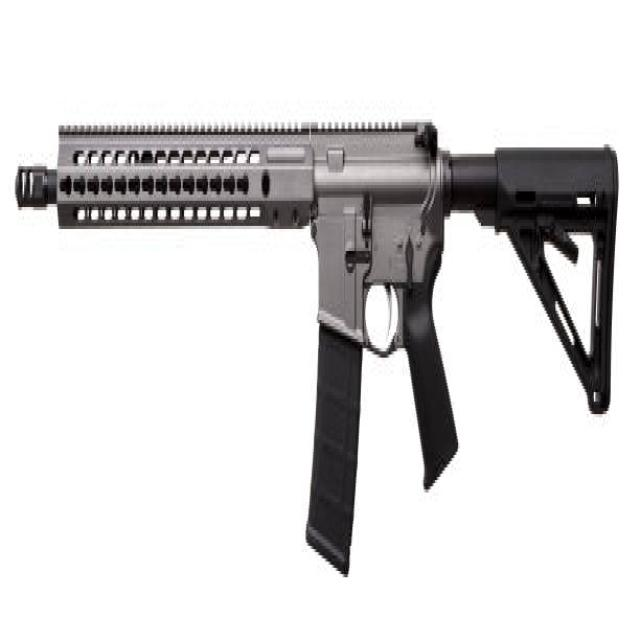rifle: (10, 101, 622, 607)
